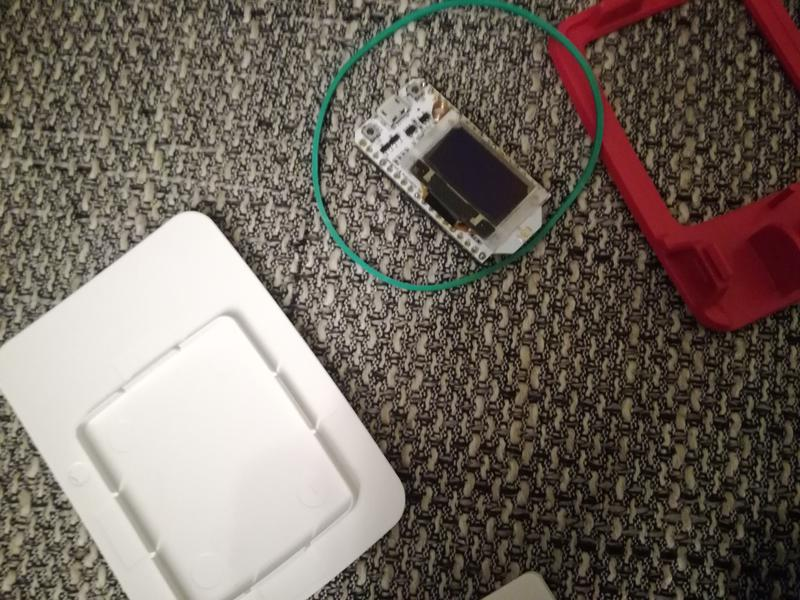Heltec_ESP32_Lora: (349, 73, 551, 267)
